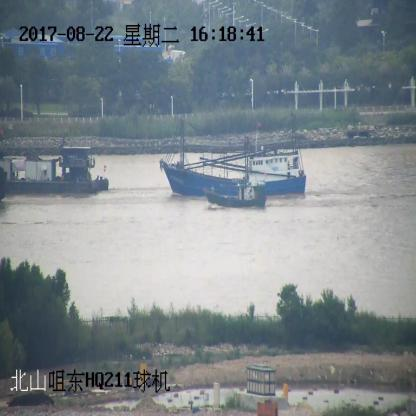Fishing Boat: (158, 114, 306, 199), (205, 178, 267, 209)
